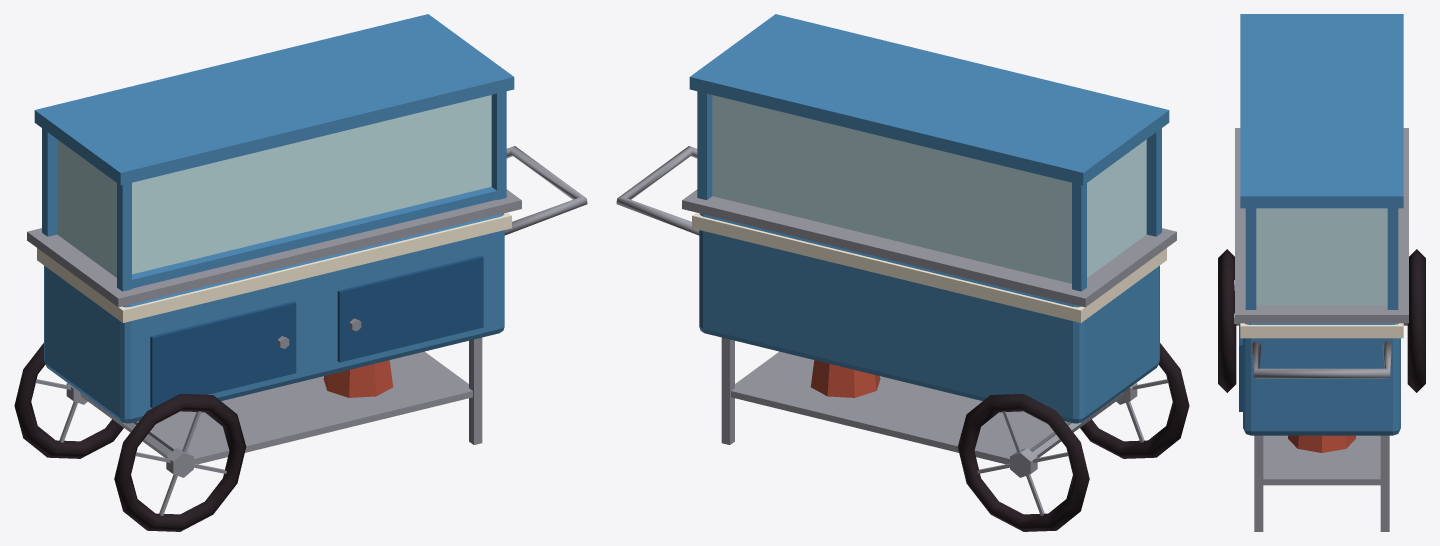
File: xe-banh-mi.glb
3 renders of one model, left to right at view 1: azimuth 30°, elevation 25°; view 2: azimuth 150°, elevation 25°; view 3: azimuth 270°, elevation 25°, orthographic. The views are drawn at different scales.
Visible parts, largest first — view 1: xe-banh-mi-0, xe-banh-mi-4, xe-banh-mi-3, xe-banh-mi-2, xe-banh-mi-9, xe-banh-mi-1, xe-banh-mi-10; view 2: xe-banh-mi-0, xe-banh-mi-4, xe-banh-mi-3, xe-banh-mi-9, xe-banh-mi-1, xe-banh-mi-10; view 3: xe-banh-mi-0, xe-banh-mi-3, xe-banh-mi-4, xe-banh-mi-9, xe-banh-mi-1, xe-banh-mi-10, xe-banh-mi-2.
Boxes of the visible parts, x1,y1,x2,y2 form: xe-banh-mi-0: (34,14,514,423); xe-banh-mi-4: (57,95,491,277); xe-banh-mi-3: (27,146,587,515); xe-banh-mi-2: (150,255,483,408); xe-banh-mi-9: (14,343,246,531); xe-banh-mi-1: (37,212,511,322); xe-banh-mi-10: (323,360,393,397); xe-banh-mi-0: (689,14,1169,423); xe-banh-mi-4: (712,95,1146,283); xe-banh-mi-3: (616,146,1176,515); xe-banh-mi-9: (957,343,1189,531); xe-banh-mi-1: (692,212,1166,322); xe-banh-mi-10: (810,360,880,397); xe-banh-mi-0: (1240,14,1403,435); xe-banh-mi-3: (1234,128,1408,531); xe-banh-mi-4: (1256,208,1387,305); xe-banh-mi-9: (1218,249,1425,392); xe-banh-mi-1: (1240,323,1403,338); xe-banh-mi-10: (1288,435,1355,452); xe-banh-mi-2: (1239,323,1242,411).
Size of the model in its own units: 2.03 by 1.46 by 0.79.
